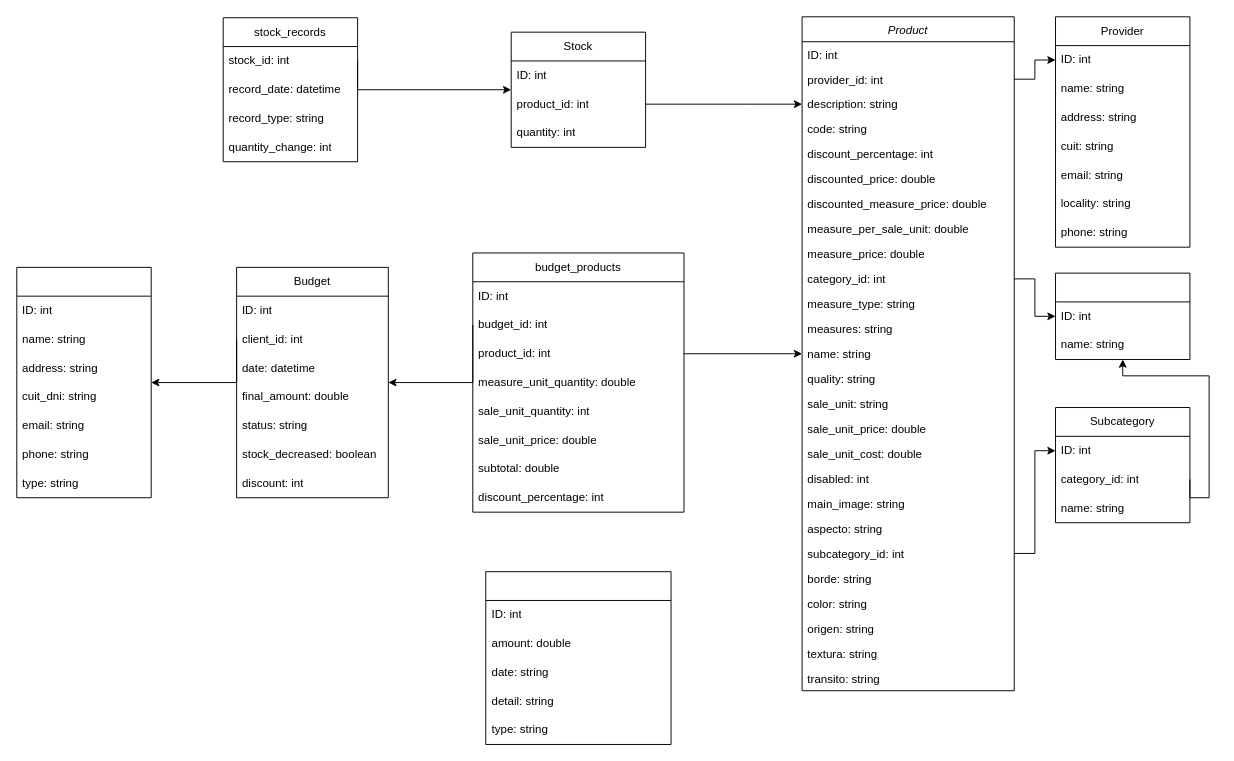
Image size: 1234x761. Some labels were removed from this diagram. Here are the shapes that lost their labels. From the top down, the box of each, then its label:
(1055, 272, 1190, 360): Category
(16, 266, 151, 498): Client
(485, 571, 671, 744): cash_register_record
